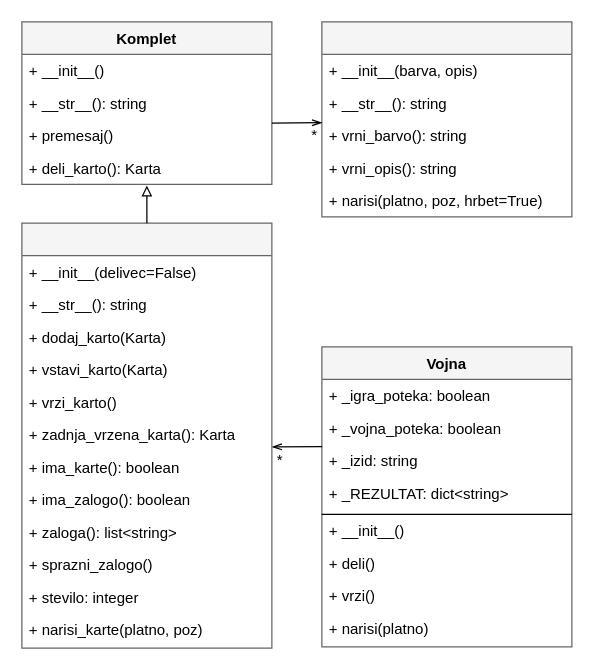
This 594x671 diagram has some shape labels left out. Here are the shapes that lost their labels. From the top down, the box of each, then its label:
(321, 21, 572, 217): Karta
(21, 222, 272, 648): Igralec
